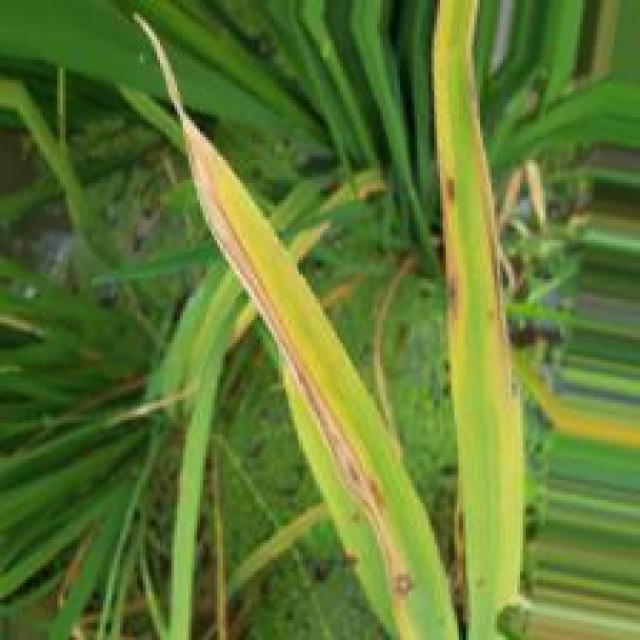Narrow_Brown_Leaf_Spot: (156, 29, 419, 640), (465, 55, 525, 489), (437, 98, 472, 401)
